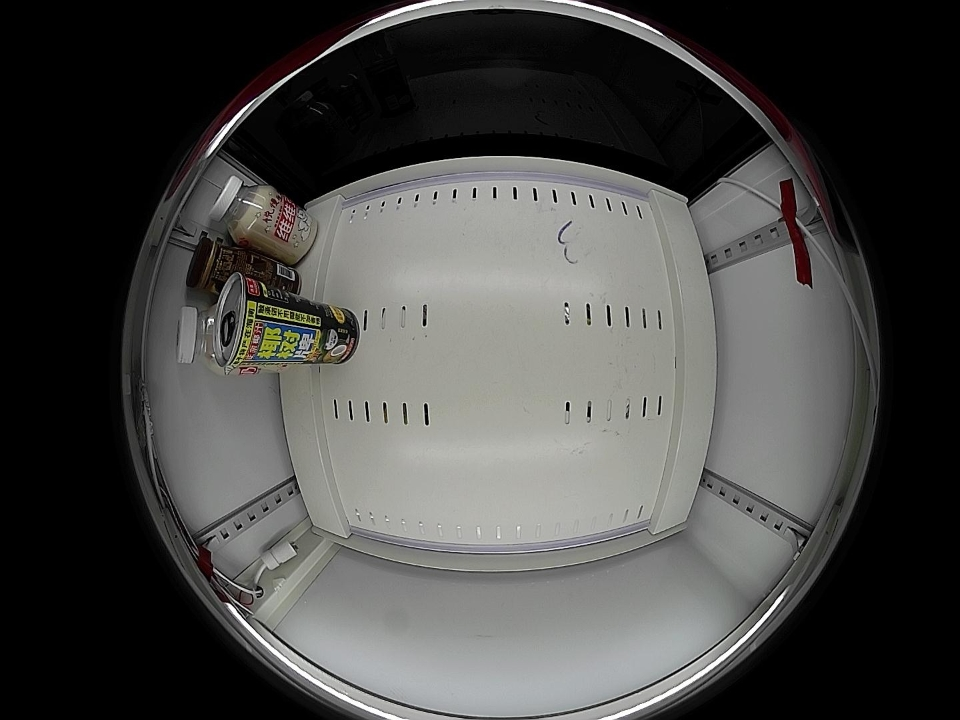lujikafei: (186, 236, 242, 294)
weiweidounai: (208, 175, 276, 245), (177, 307, 229, 376)
yezhi: (211, 270, 273, 370)
